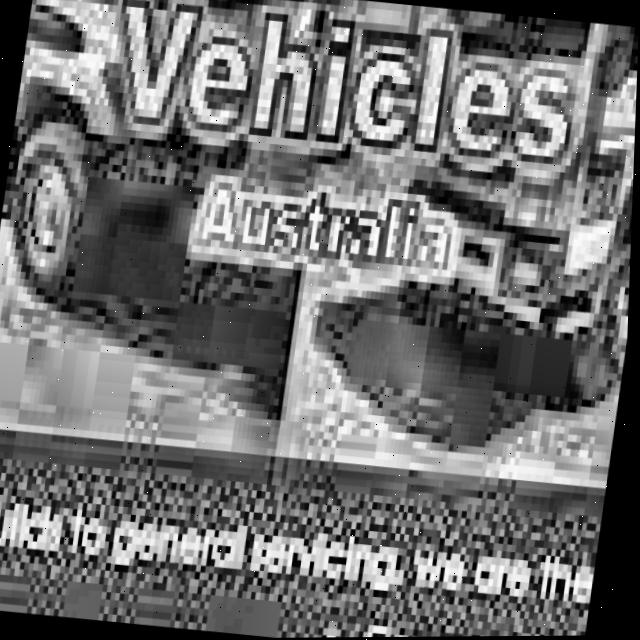dump_truck: (340, 2, 640, 419)
light_vehicle: (0, 0, 273, 315)
